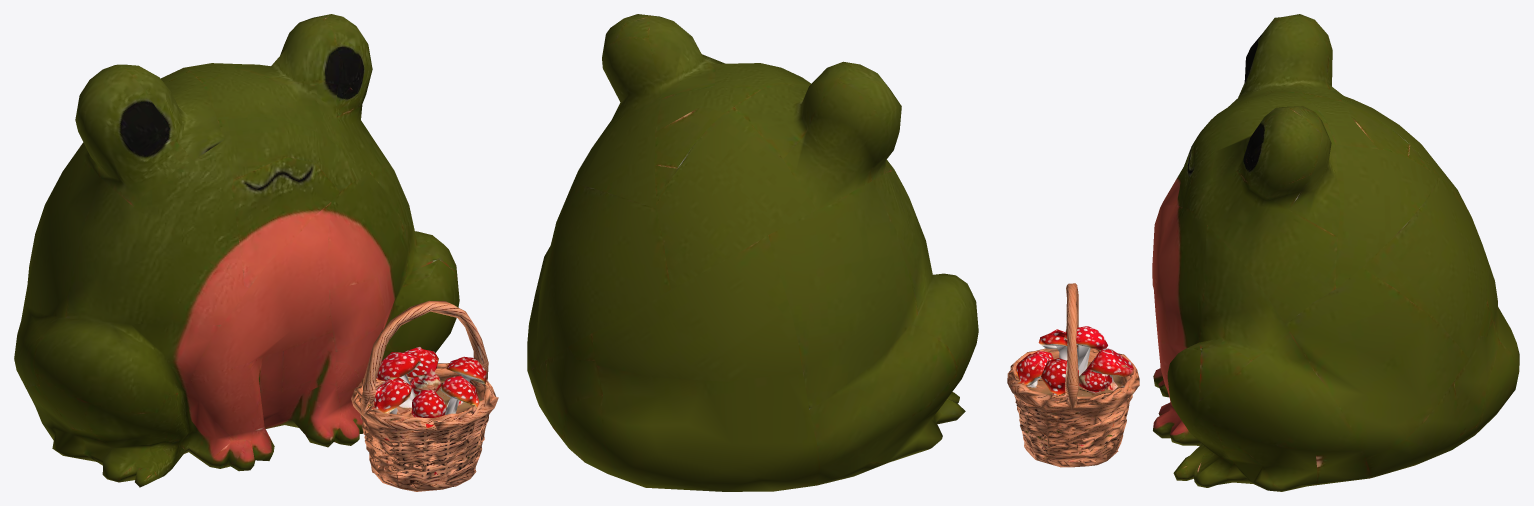
File: cueilleuse.glb
3 renders of one model, left to right at view 1: azimuth 30°, elevation 25°; view 2: azimuth 150°, elevation 25°; view 3: azimuth 270°, elevation 25°, orthographic. The views are drawn at different scales.
Visible parts, largest first — view 1: mesh_node; view 2: mesh_node; view 3: mesh_node.
Part boxes in pixels (x1,y1,x2,y2): mesh_node: (14, 14, 498, 491); mesh_node: (527, 14, 978, 491); mesh_node: (1007, 14, 1519, 491).
Size of the model in its own units: 1.62 by 1.41 by 1.89.
1 material, 1 textured.
